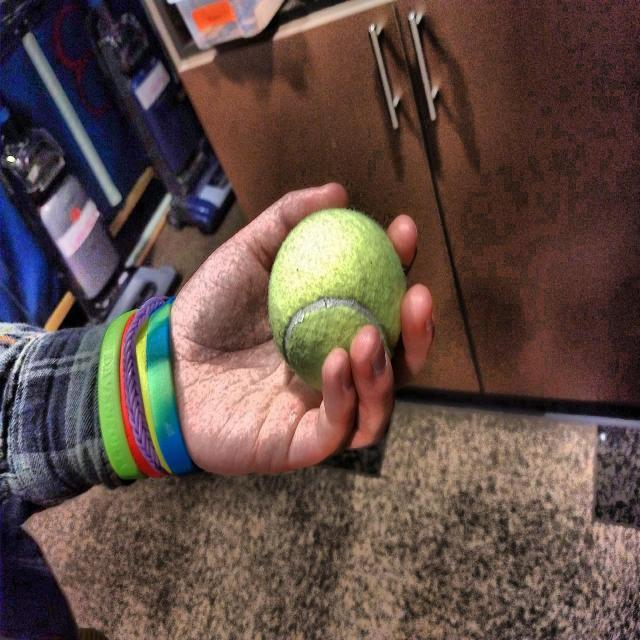tennis-ball: (267, 209, 411, 391)
